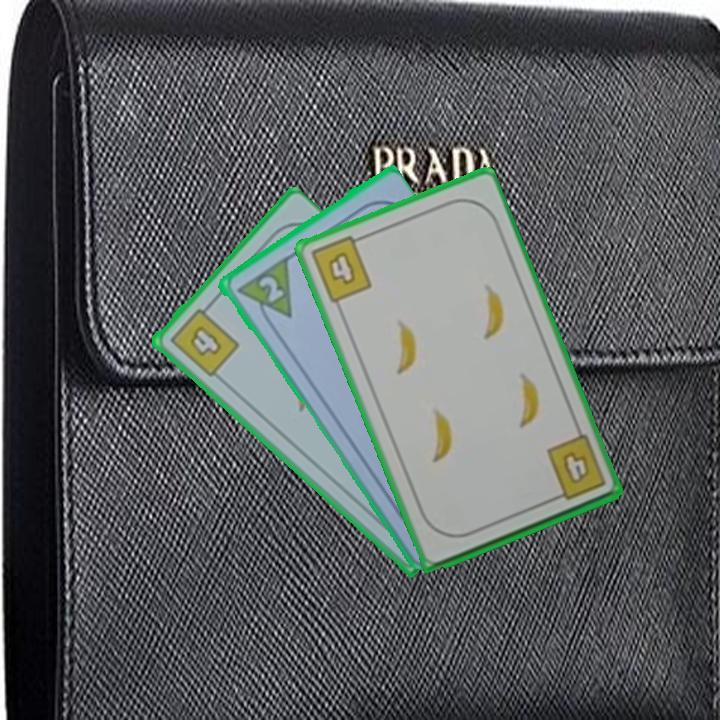2p: (254, 272, 286, 306)
4b: (165, 299, 242, 380), (306, 231, 375, 306), (542, 431, 609, 504)
